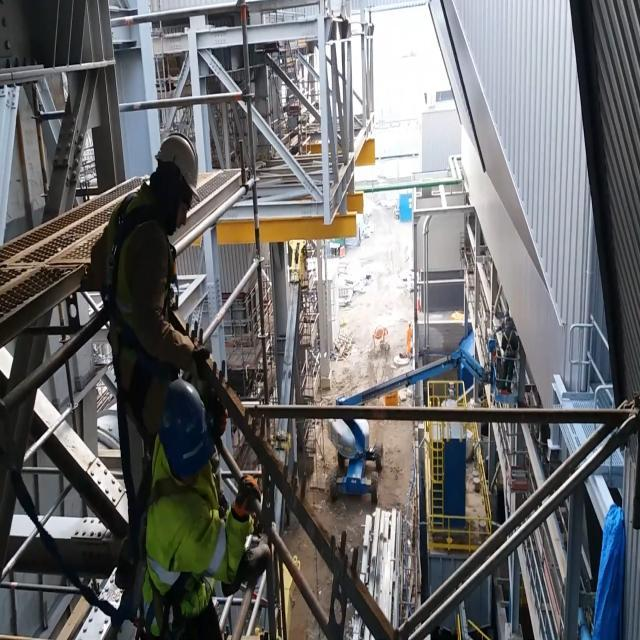belt: (94, 186, 184, 442), (126, 446, 220, 632)
